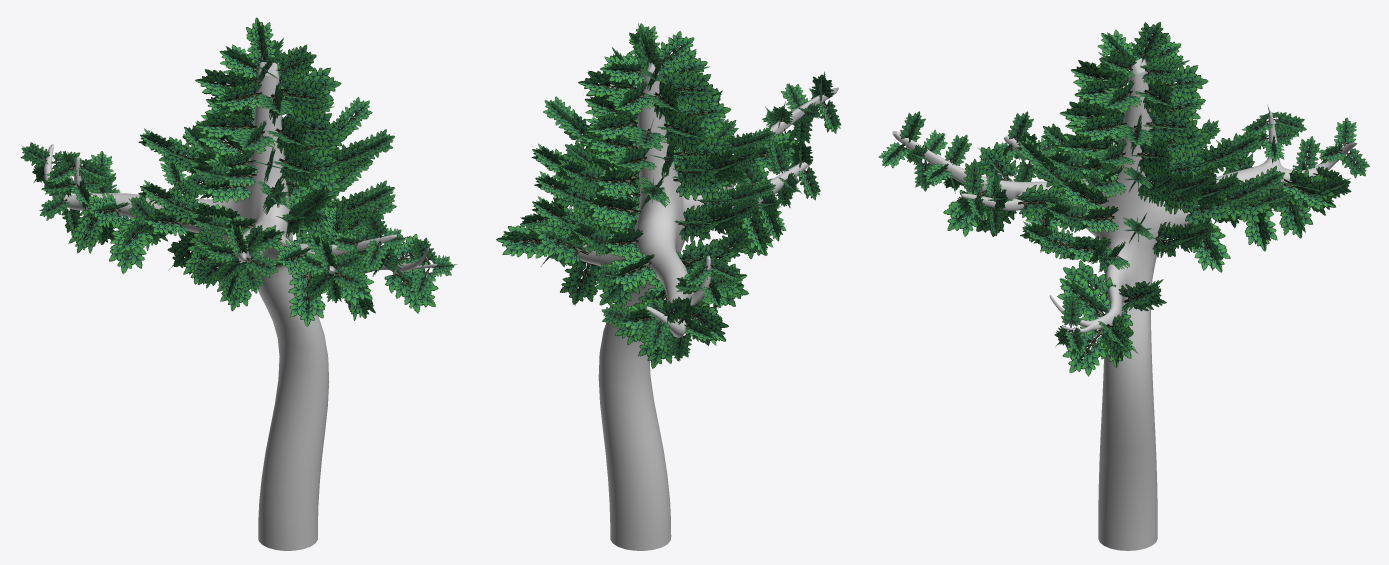
Rendered from arbre gran.fbx.
3 views of the same model, side by side, from view 1: azimuth 30°, elevation 25°; view 2: azimuth 150°, elevation 25°; view 3: azimuth 270°, elevation 25° (orthographic). The views are drawn at different scales.
Visible parts, largest first — view 1: Rama.024, Cylinder.079; view 2: Rama.024, Cylinder.079; view 3: Rama.024, Cylinder.079.
Boxes of the visible parts, x1,y1,x2,y2 form: Rama.024: (20,17,457,326); Cylinder.079: (44,62,436,550); Rama.024: (496,23,840,368); Cylinder.079: (562,62,838,550); Rama.024: (878,22,1369,376); Cylinder.079: (892,58,1356,550).
Size of the model in its own units: 4489 by 6950 by 6130.
